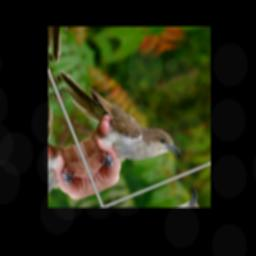Cuckoo: (57, 38, 183, 189)
